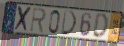0: (48, 9, 61, 34)
6: (79, 12, 93, 38)
D: (60, 9, 78, 37), (92, 13, 110, 40)
R: (29, 7, 47, 35)
X: (14, 6, 33, 34)
